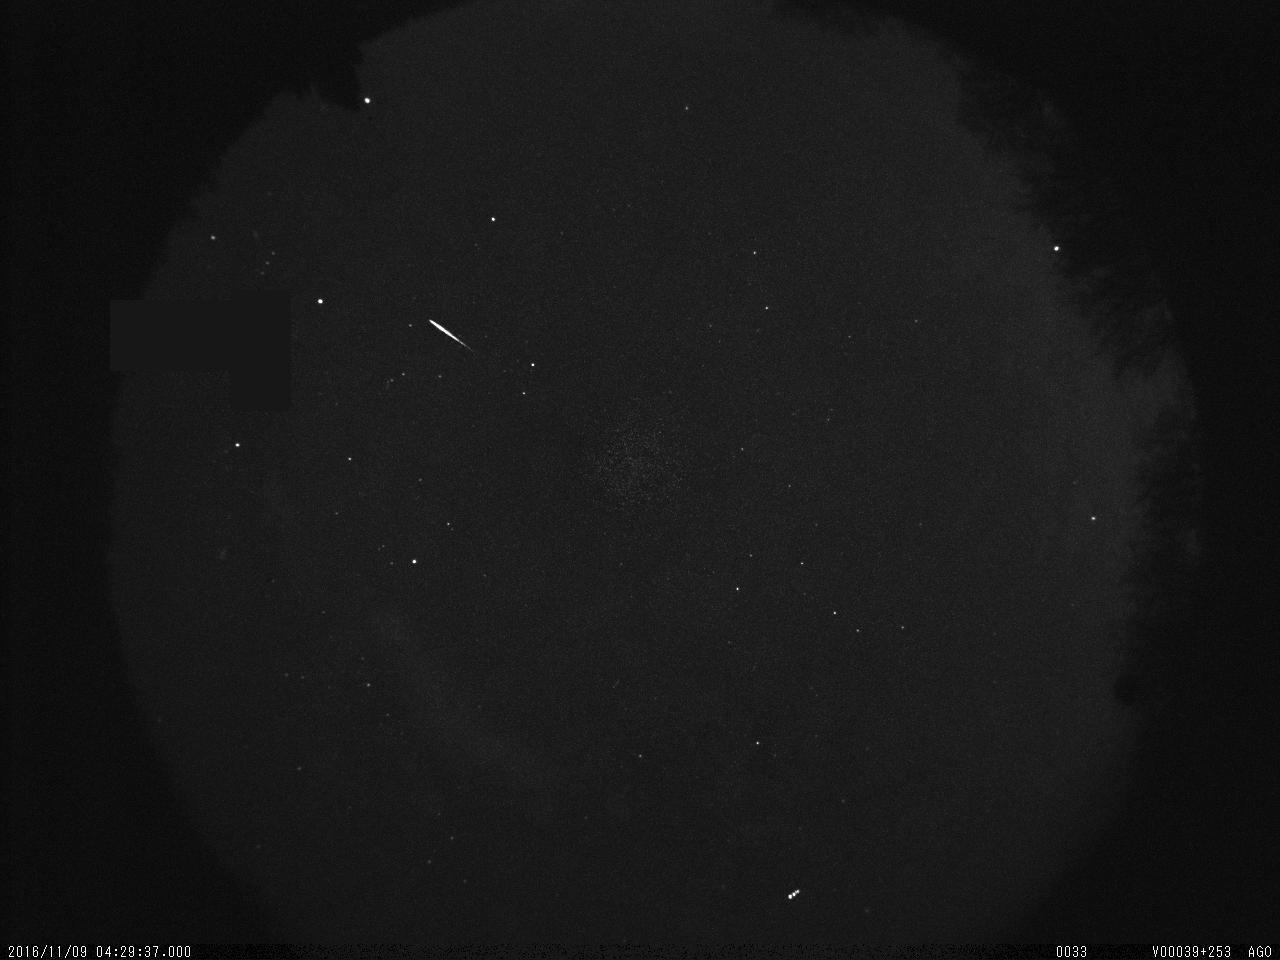meteor: (418, 309, 487, 365)
satelite: (780, 880, 810, 910)
